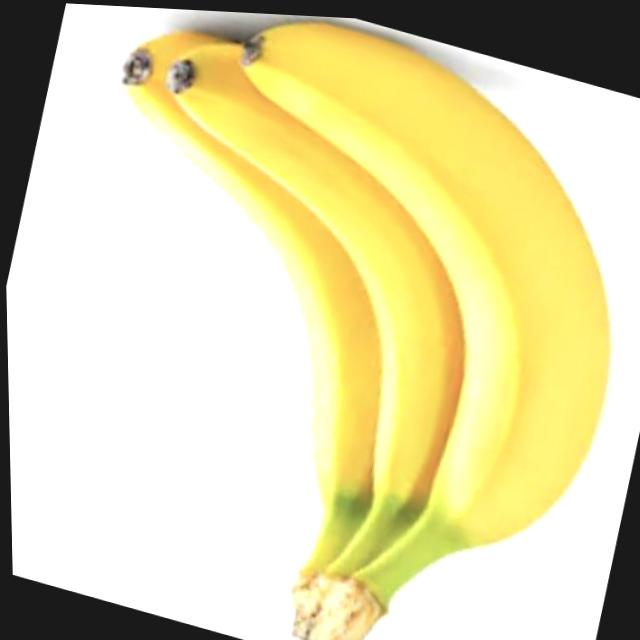Banana: (4, 0, 640, 640)
